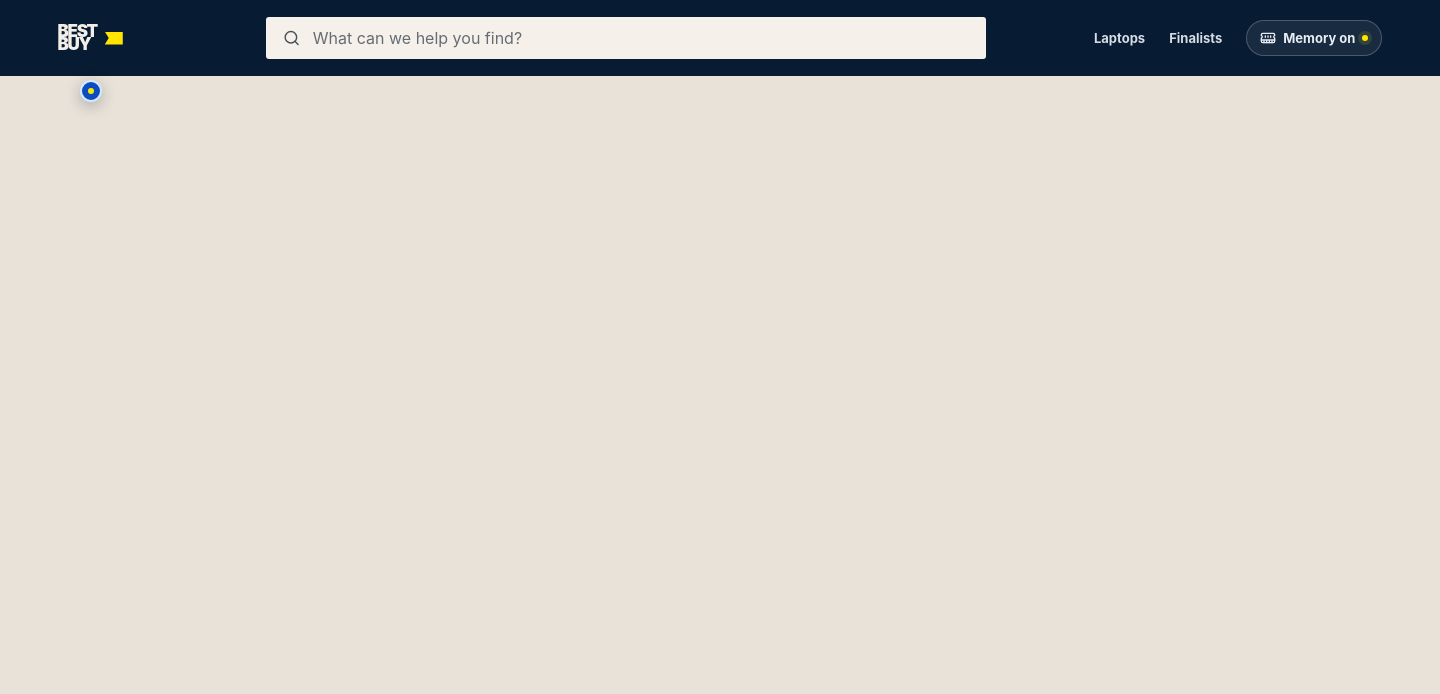
Test case: Blue concept experience › reveals the same finalists from the header navigation
Click the link "Finalists".
click(1196, 38)  # box [1169,30,1222,46]
(page scrolled)
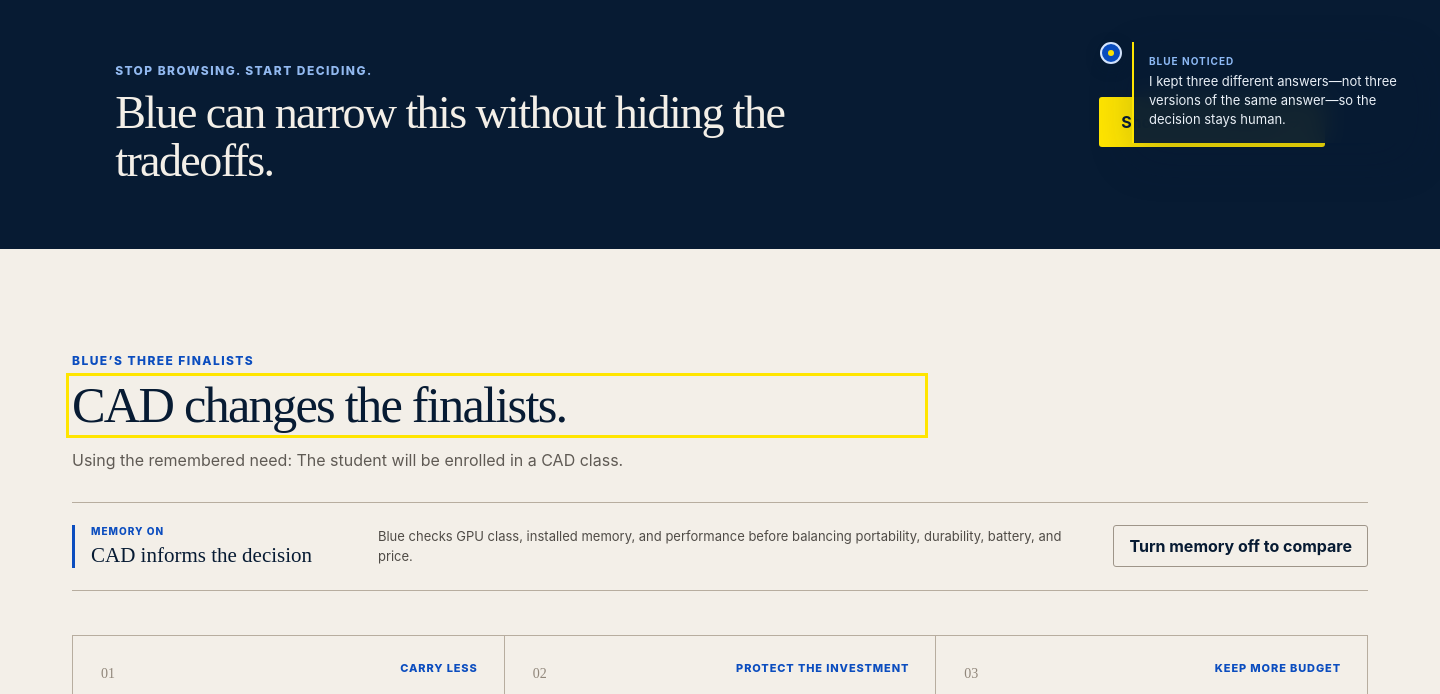
expect the heading "CAD changes the finalists." is shown: met, box [72,377,566,433]
